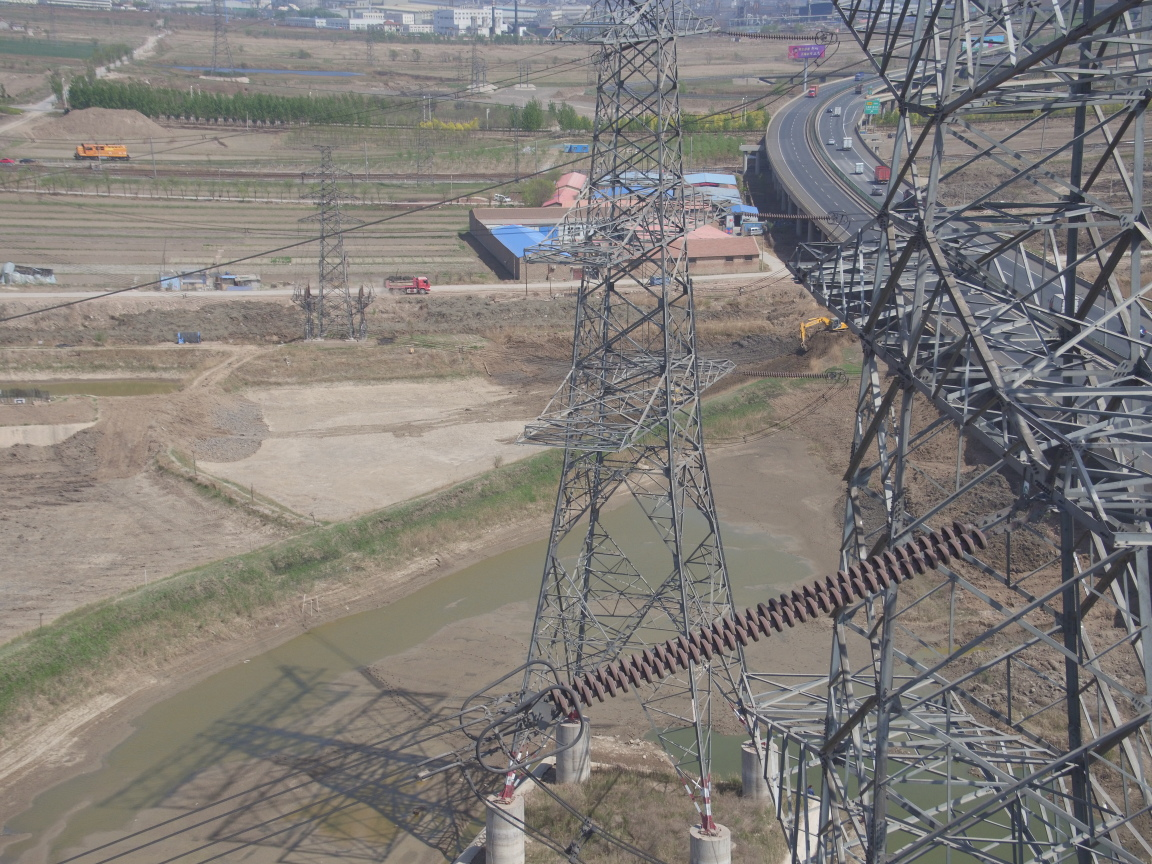insulator: (544, 517, 1001, 717)
